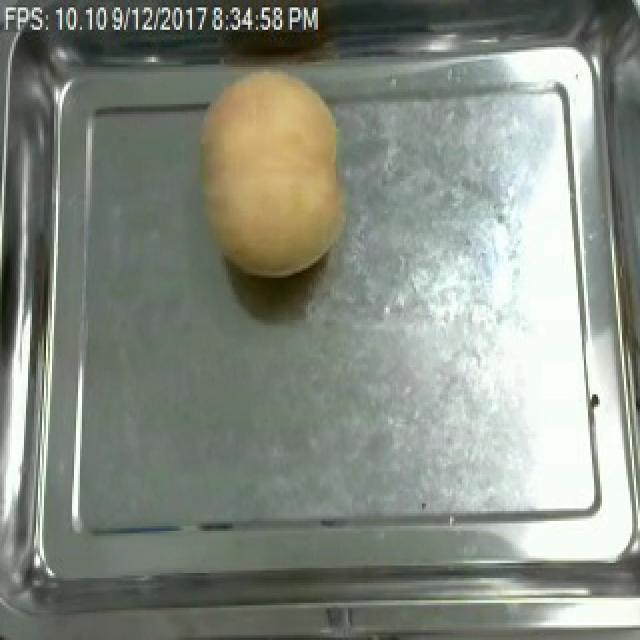Fruit: (190, 64, 356, 286)
